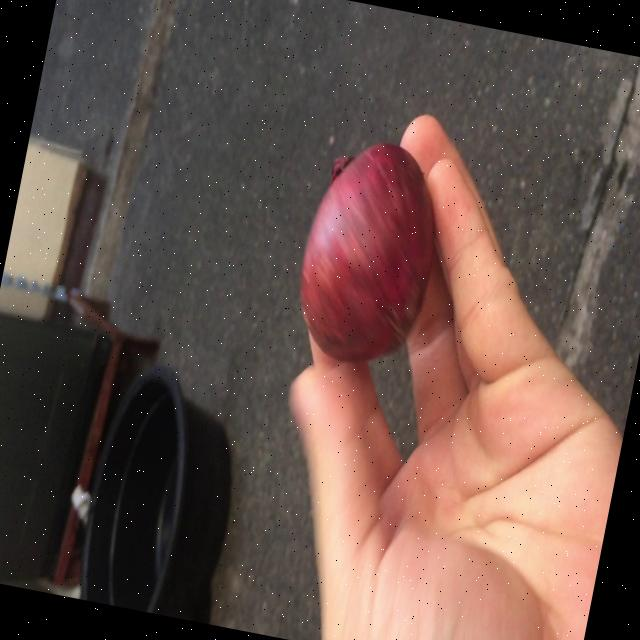Onion: (301, 142, 435, 362)
